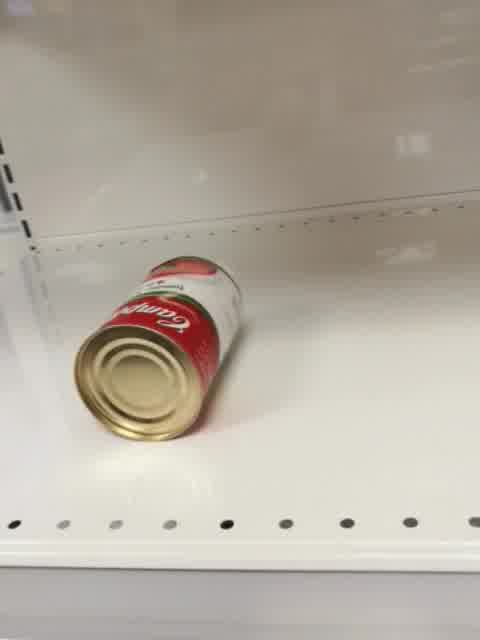tomatosoup: (71, 254, 245, 442)
